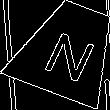N_NE: (37, 19, 100, 81)
